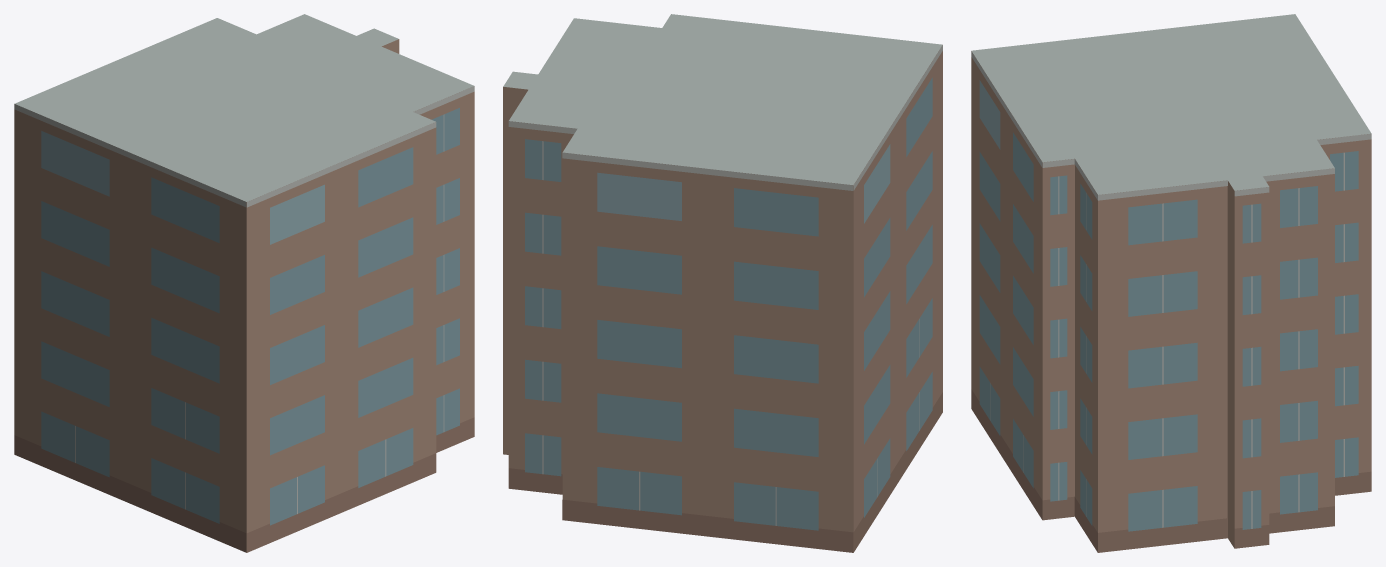
Rendered from survey-upis-32865922.glb.
3 views of the same model, side by side, from view 1: azimuth 30°, elevation 25°; view 2: azimuth 150°, elevation 25°; view 3: azimuth 270°, elevation 25° (orthographic). The views are drawn at different scales.
Visible parts, largest first — view 1: survey-upis-32865922.tmp; view 2: survey-upis-32865922.tmp; view 3: survey-upis-32865922.tmp.
Part boxes in pixels (bbox=[...]): survey-upis-32865922.tmp: bbox=[14, 14, 474, 552]; survey-upis-32865922.tmp: bbox=[503, 14, 942, 552]; survey-upis-32865922.tmp: bbox=[971, 14, 1371, 552].
Bounding box in the file's own units: 16.54 × 15.25 × 15.47.
